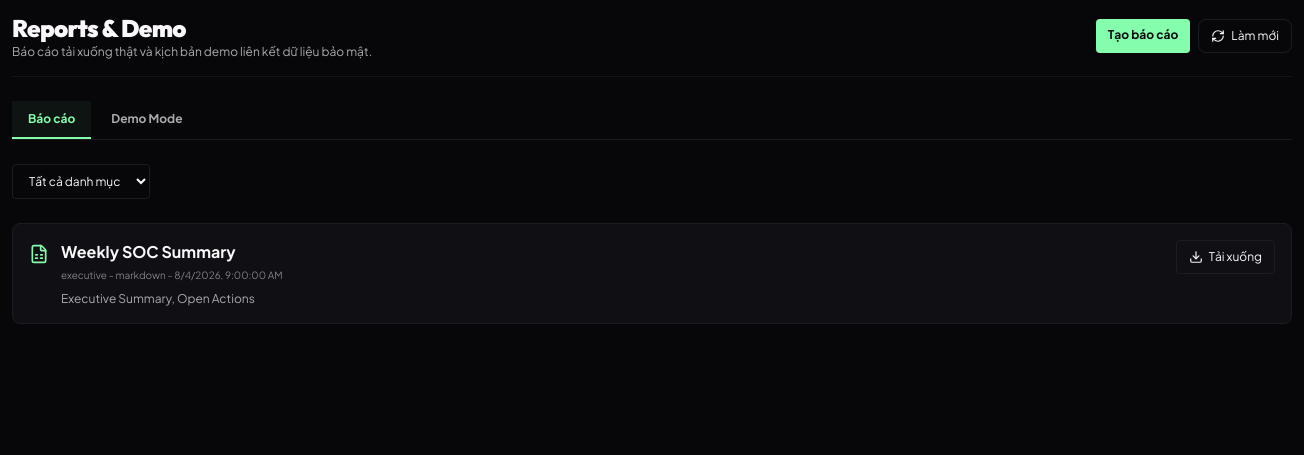
Test: Reports API-backed views › renders generated reports and downloads real backend content
Click the button "Tải xuống" at (1225, 257), box [1176,240,1275,274]
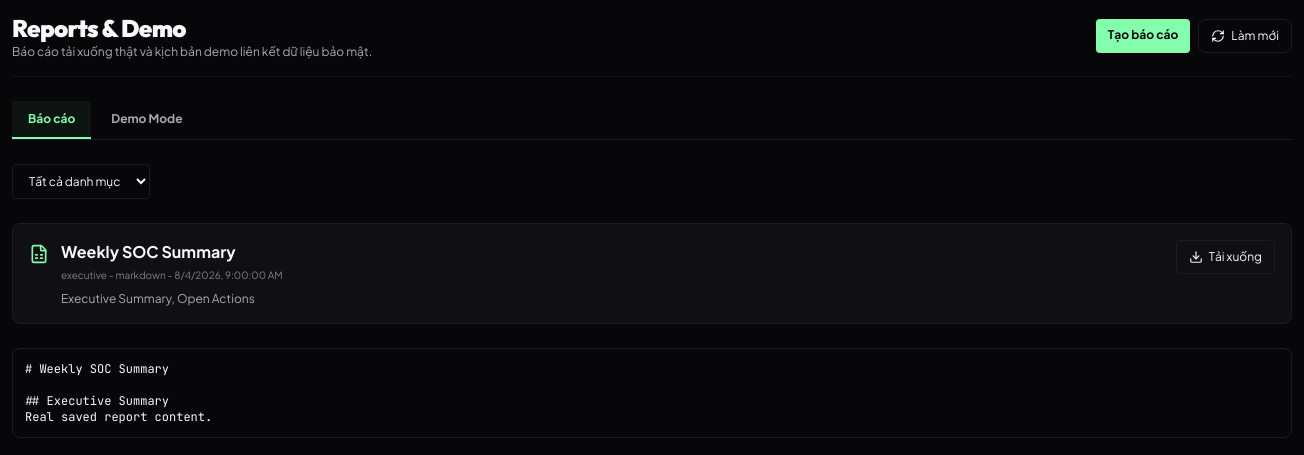
Result: the text with test id "report-download-preview" shows "Weekly SOC Summary" at [25,361,212,425]
